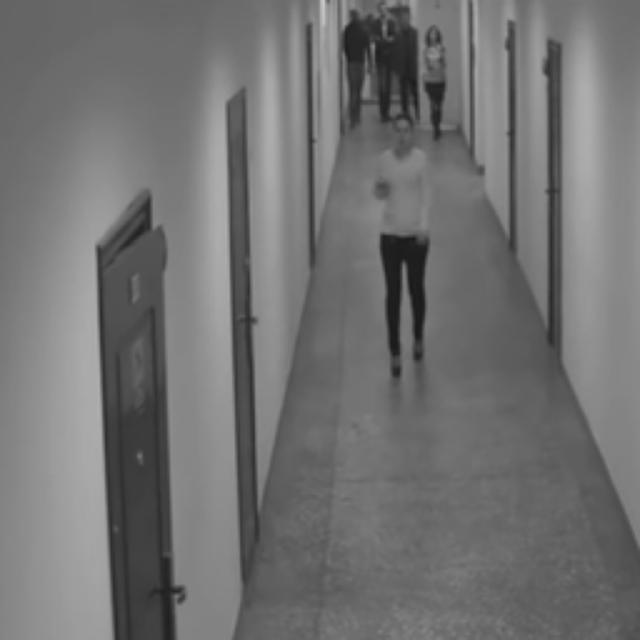Invader: (370, 112, 432, 378), (371, 0, 418, 127), (340, 7, 370, 125), (420, 22, 445, 140)
